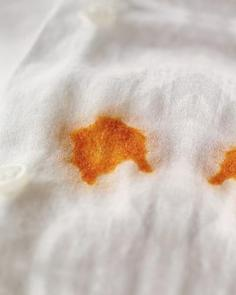stain: (60, 110, 155, 187), (203, 141, 236, 189)
